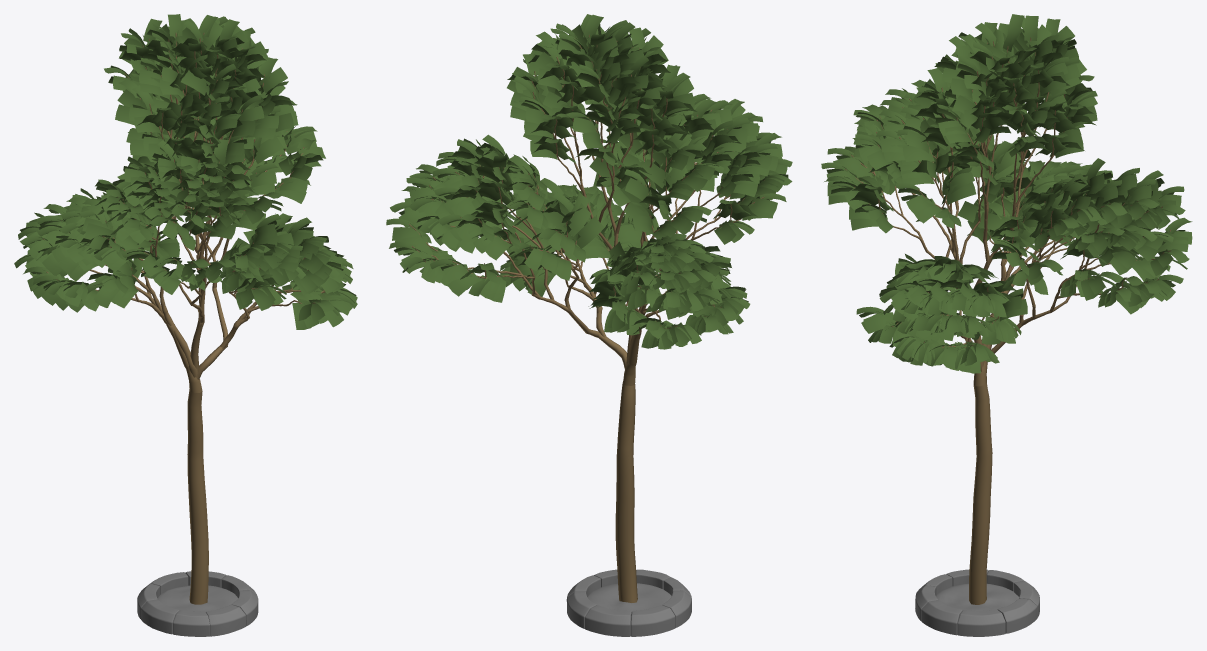
The model's file is Tree.fbx.
3 renders of one model, left to right at view 1: azimuth 30°, elevation 25°; view 2: azimuth 150°, elevation 25°; view 3: azimuth 270°, elevation 25°, orthographic. The views are drawn at different scales.
Parts seen in each view (by area): view 1: Foliage_GEO, Flower_bed_GEO, Trunk_GEO, Branches_GEO; view 2: Foliage_GEO, Flower_bed_GEO, Branches_GEO, Trunk_GEO; view 3: Foliage_GEO, Flower_bed_GEO, Branches_GEO, Trunk_GEO.
Boxes of the visible parts, bbox=[...] form: Foliage_GEO: bbox=[14, 14, 357, 329]; Flower_bed_GEO: bbox=[137, 571, 258, 636]; Trunk_GEO: bbox=[167, 290, 236, 604]; Branches_GEO: bbox=[43, 33, 325, 334]; Foliage_GEO: bbox=[386, 14, 792, 349]; Flower_bed_GEO: bbox=[566, 569, 691, 636]; Branches_GEO: bbox=[409, 35, 764, 338]; Trunk_GEO: bbox=[568, 310, 639, 602]; Foliage_GEO: bbox=[821, 14, 1192, 373]; Flower_bed_GEO: bbox=[915, 569, 1039, 636]; Branches_GEO: bbox=[845, 37, 1170, 347]; Trunk_GEO: bbox=[969, 313, 1019, 604].
Bounding box in the file's own units: 3.19 × 5.75 × 3.29.
